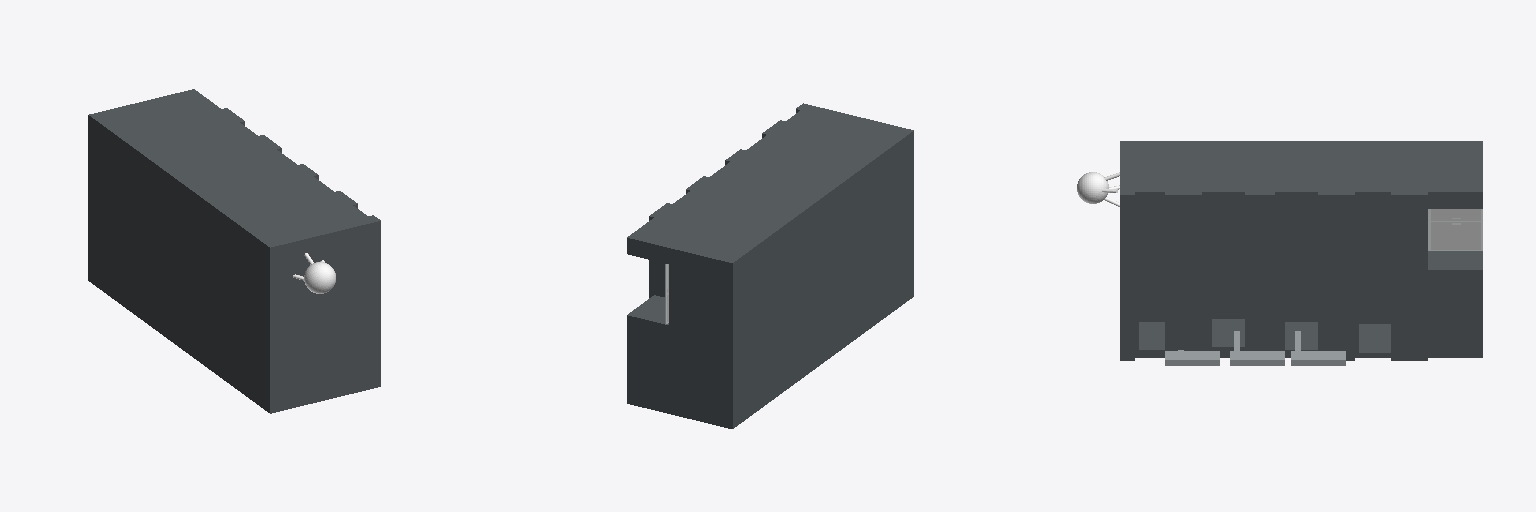
The model's file is tinker 11.obj.
3 renders of one model, left to right at view 1: azimuth 30°, elevation 25°; view 2: azimuth 150°, elevation 25°; view 3: azimuth 270°, elevation 25°, orthographic.
Parts seen in each view (by area): view 1: obj_6, obj_4, obj_19; view 2: obj_6, obj_4; view 3: obj_6, obj_1, obj_2, obj_5, obj_3, obj_4, obj_0, obj_8, obj_10, obj_14, obj_19.
Part boxes in pixels (bbox=[...]): obj_6: bbox=[88, 89, 370, 407]; obj_4: bbox=[262, 215, 380, 413]; obj_19: bbox=[304, 262, 335, 293]; obj_6: bbox=[627, 110, 909, 428]; obj_4: bbox=[796, 103, 913, 300]; obj_6: bbox=[1129, 141, 1482, 357]; obj_1: bbox=[1391, 192, 1427, 360]; obj_2: bbox=[1318, 192, 1354, 360]; obj_5: bbox=[1165, 190, 1201, 350]; obj_3: bbox=[1245, 192, 1274, 350]; obj_4: bbox=[1120, 141, 1134, 360]; obj_0: bbox=[1428, 209, 1482, 250]; obj_8: bbox=[1165, 351, 1219, 365]; obj_10: bbox=[1230, 351, 1284, 365]; obj_14: bbox=[1291, 351, 1345, 365]; obj_19: bbox=[1077, 172, 1108, 203].
Bounding box in the file's own units: 25 × 30 × 66.5.